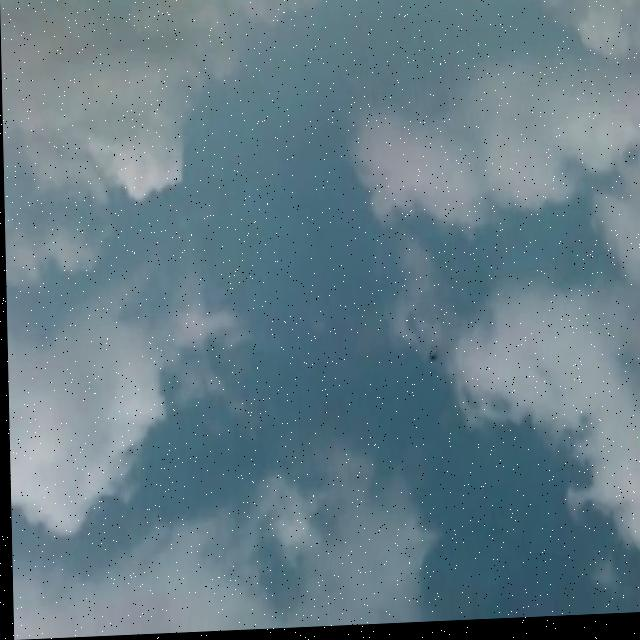drone: (425, 354, 440, 374)
